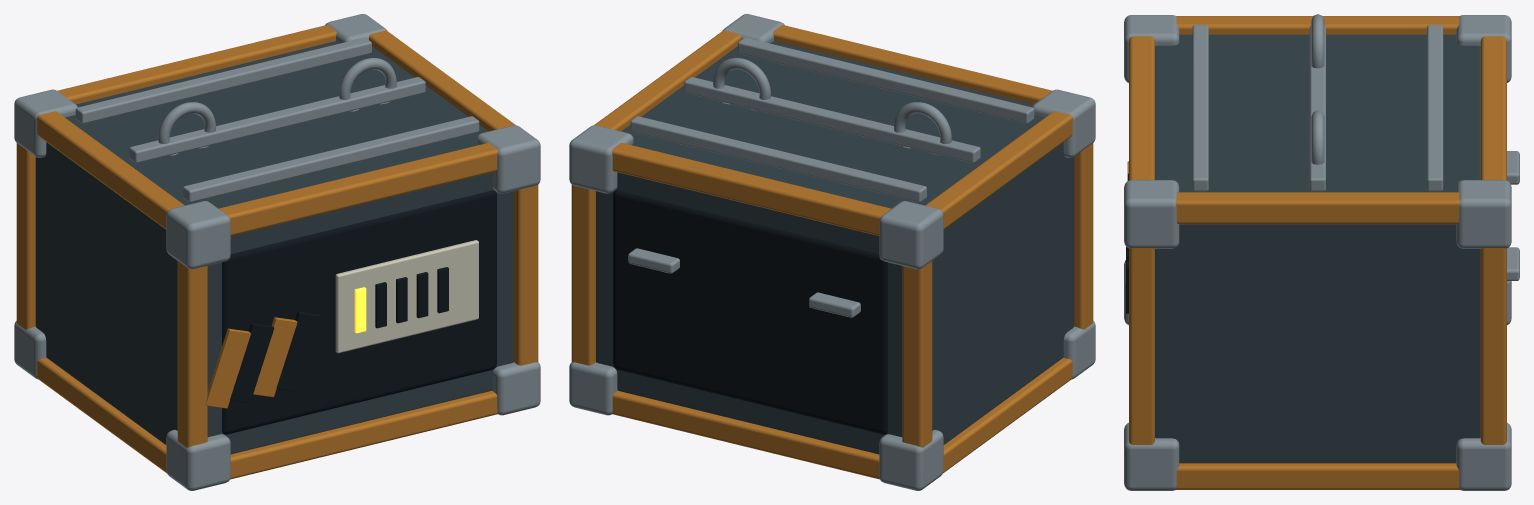
File: cargo-orbitale.glb
3 renders of one model, left to right at view 1: azimuth 30°, elevation 25°; view 2: azimuth 150°, elevation 25°; view 3: azimuth 270°, elevation 25°, orthographic. The views are drawn at different scales.
Visible parts, largest first — view 1: Static_35444b, Static_b4772c, Static_11191e, Static_849198, Static_c9c8b7, Static_e2a13c; view 2: Static_35444b, Static_11191e, Static_b4772c, Static_849198; view 3: Static_35444b, Static_b4772c, Static_849198.
Part boxes in pixels (x1,y1,x2,y2): Static_35444b: [35, 41, 513, 454]; Static_b4772c: [16, 25, 538, 479]; Static_11191e: [222, 190, 496, 434]; Static_849198: [14, 14, 540, 490]; Static_c9c8b7: [335, 240, 478, 353]; Static_e2a13c: [354, 287, 366, 333]; Static_35444b: [596, 41, 1074, 454]; Static_11191e: [613, 190, 887, 434]; Static_b4772c: [571, 25, 1093, 479]; Static_849198: [569, 14, 1095, 490]; Static_35444b: [1155, 34, 1480, 463]; Static_b4772c: [1127, 16, 1506, 489]; Static_849198: [1124, 14, 1519, 490].
Size of the model in its own units: 2.74 by 2.26 by 2.43.
